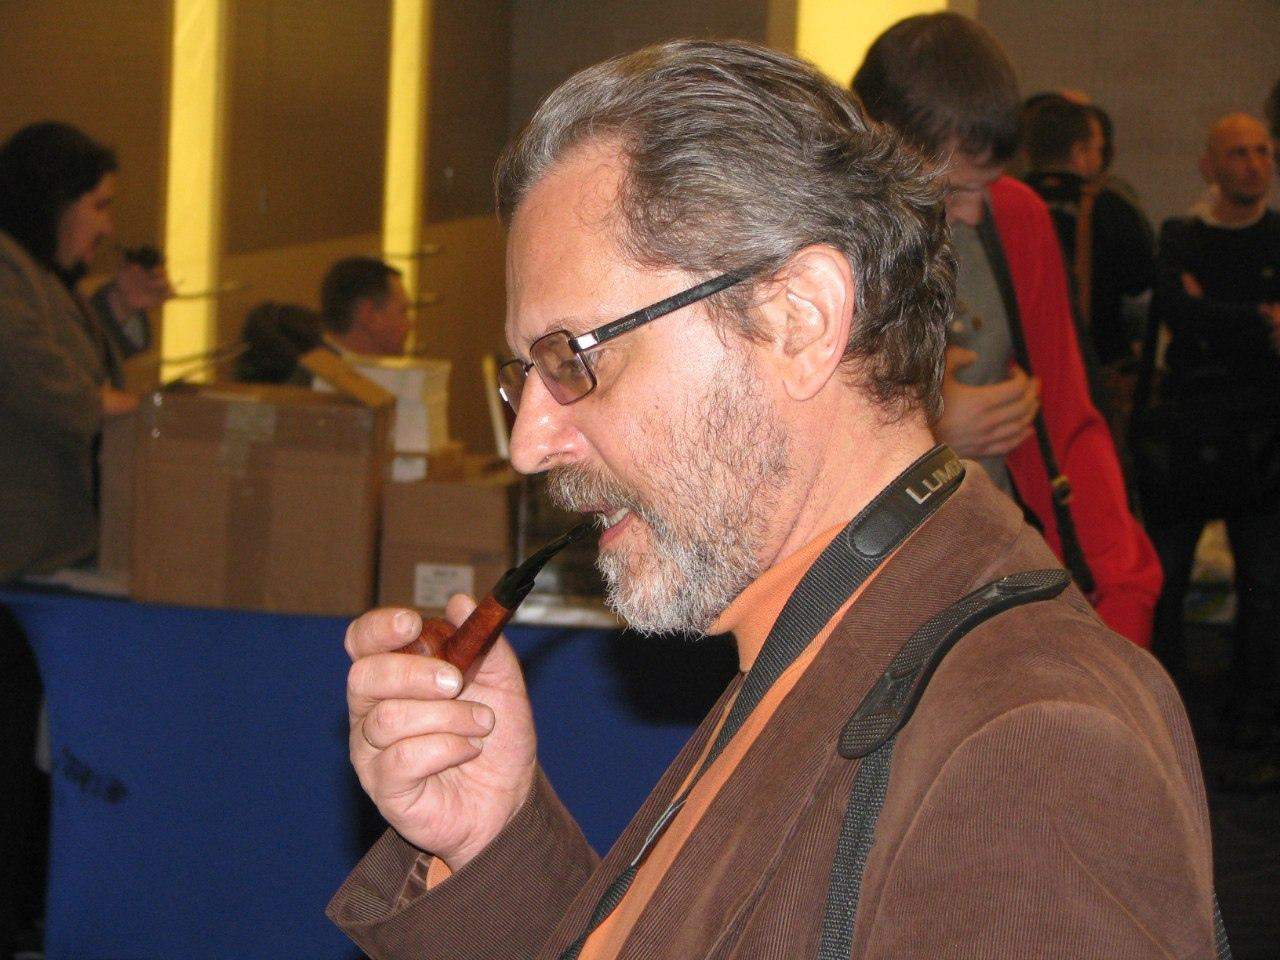trubka: (399, 523, 599, 680)
